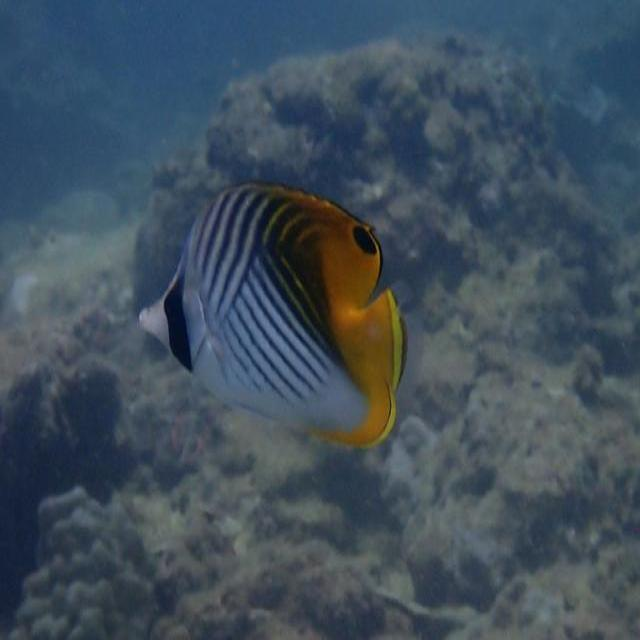ButterflyFish: (139, 184, 405, 449)
